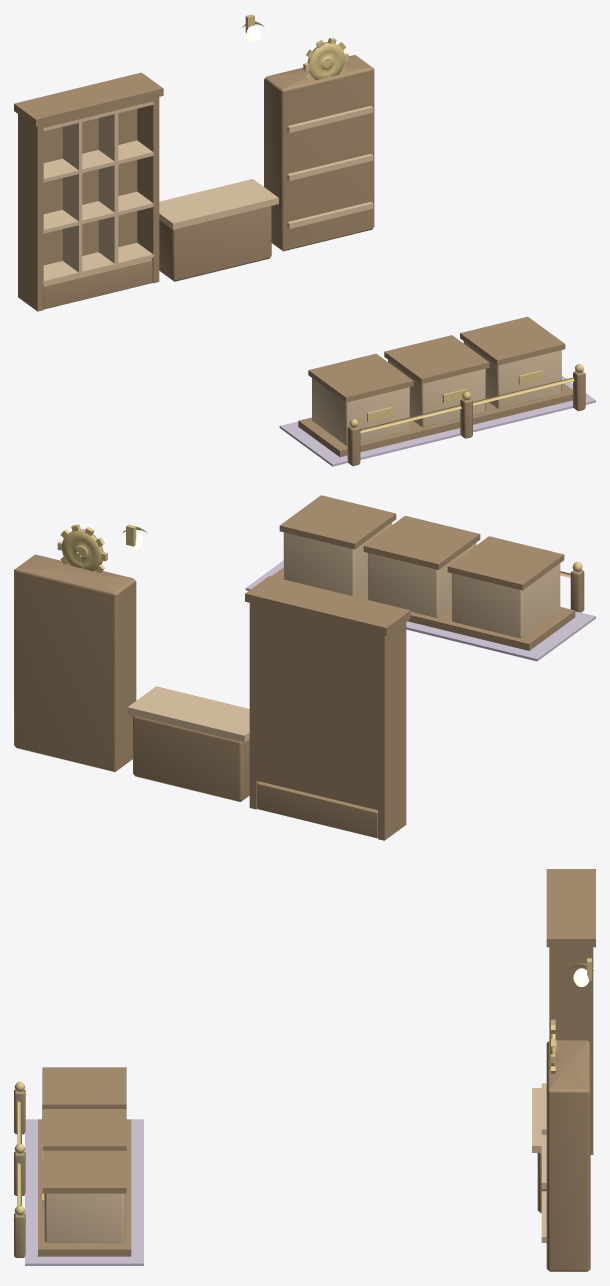
Rendered from switch_furniture.glb.
3 views of the same model, one above another, from view 1: azimuth 30°, elevation 25°; view 2: azimuth 150°, elevation 25°; view 3: azimuth 270°, elevation 25° (orthographic). The views are drawn at different scales.
Parts seen in each view (by area): view 1: Switch_Furniture_Set; view 2: Switch_Furniture_Set; view 3: Switch_Furniture_Set.
Part boxes in pixels (x1,y1,x2,y2): Switch_Furniture_Set: (14, 14, 595, 466); Switch_Furniture_Set: (14, 495, 595, 840); Switch_Furniture_Set: (14, 869, 595, 1271).
Bounding box in the file's own units: 3.41 × 2.17 × 4.5.
